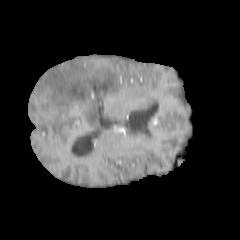glioma: (39, 61, 120, 130)
